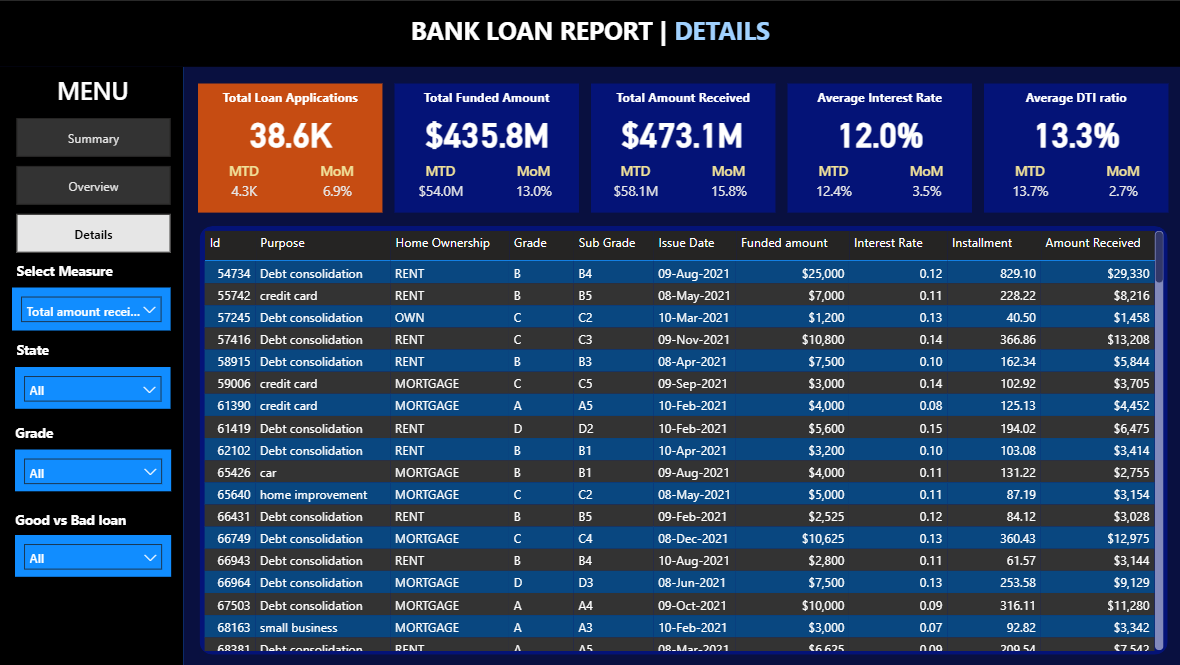

This screenshot's page, from the dashboard's own definition file:
{"tool":"powerbi","page":{"name":"Details","canvas":[1280,720],"ordinal":2},"visuals":[{"type":"shape","box":[0,0,1280.1,71.6],"z":0},{"type":"shape","box":[0,71.6,198.4,649],"z":1000},{"type":"textbox","box":[366,8.1,548.1,53.7],"z":2000},{"type":"textbox","box":[214.3,89.2,200,140],"z":3000},{"type":"card","fields":{"Values":["bankdata loandata.Total Loan Applications"]},"box":[225.5,118,177.5,46.2],"z":4000},{"type":"card","title":"MTD","fields":{"Values":["bankdata loandata.MTD loan applications"]},"box":[225.5,173.8,76.7,46.7],"z":5000},{"type":"card","title":"MoM","fields":{"Values":["bankdata loandata.MoM loan applications"]},"box":[326.4,173.8,76.7,46.7],"z":6000},{"type":"textbox","box":[428,89.3,200,140],"z":7000},{"type":"card","fields":{"Values":["bankdata loandata.Total funded amount"]},"box":[439.7,118,177.5,46.7],"z":8000},{"type":"card","title":"MTD","fields":{"Values":["bankdata loandata.MTD funded amount"]},"box":[439.7,173.8,76.7,46.7],"z":9000},{"type":"card","title":"MoM","fields":{"Values":["bankdata loandata.MoM funded amount"]},"box":[540.5,173.8,76.7,46.7],"z":10000},{"type":"textbox","box":[640.5,89.4,200,140],"z":11000},{"type":"textbox","box":[853.9,89.5,200,140],"z":12000},{"type":"textbox","box":[1067.2,89.6,200,140],"z":13000},{"type":"card","fields":{"Values":["bankdata loandata.Total amount received"]},"box":[651.4,118,177.5,46.7],"z":14000},{"type":"card","fields":{"Values":["bankdata loandata.Avg interest rate"]},"box":[864.7,118,177.5,46.7],"z":15000},{"type":"card","fields":{"Values":["bankdata loandata.Avg dti ratio"]},"box":[1078,118,177.5,46.7],"z":16000},{"type":"card","title":"MTD","fields":{"Values":["bankdata loandata.MTD amount received"]},"box":[651.4,173.8,76.7,46.7],"z":17000},{"type":"card","title":"MoM","fields":{"Values":["bankdata loandata.MoM amount received"]},"box":[752.2,173.8,76.7,46.7],"z":18000},{"type":"card","title":"MTD","fields":{"Values":["bankdata loandata.MTD interest rate"]},"box":[864.7,173.8,76.7,46.7],"z":19000},{"type":"card","title":"MTD","fields":{"Values":["bankdata loandata.MTD dti"]},"box":[1078,173.8,76.7,46.7],"z":20000},{"type":"card","title":"MoM","fields":{"Values":["bankdata loandata.MoM interest rate"]},"box":[965.5,173.8,76.7,46.7],"z":21000},{"type":"card","title":"MoM","fields":{"Values":["bankdata loandata.MoM"]},"box":[1178.9,173.8,76.7,46.7],"z":22000},{"type":"shape","box":[216.7,243.3,1050,465],"z":23000},{"type":"slicer","title":"State","fields":{"Values":["bankdata loandata.Address_State"]},"box":[16.7,396.7,168.3,45],"z":24000},{"type":"textbox","box":[12.7,362.7,123.6,33.6],"z":25000},{"type":"slicer","title":"State","fields":{"Values":["bankdata loandata.Grade"]},"box":[16.4,486.4,169.1,45.5],"z":26000},{"type":"textbox","box":[11.8,452.7,123.6,33.6],"z":27000},{"type":"slicer","title":"State","fields":{"Values":["bankdata loandata.Good vs Bad loan"]},"box":[16.7,579.4,169.1,45.5],"z":28000},{"type":"textbox","box":[11.4,545.7,172.9,34.3],"z":29000},{"type":"slicer","fields":{"Values":["Select Measure.Select Measure"]},"box":[13.3,310,171.7,46.7],"z":30000},{"type":"textbox","box":[13.8,276.2,123.8,33.8],"z":31000},{"type":"tableEx","fields":{"Values":["bankdata loandata.Id","bankdata loandata.Purpose","bankdata loandata.Home_Ownership","bankdata loandata.Grade","bankdata loandata.Sub_Grade","bankdata loandata.Issue_Date","bankdata loandata.Total funded amount","Sum(bankdata loandata.Int_Rate)","Sum(bankdata loandata.Installment)","bankdata loandata.Total amount received"]},"box":[216.7,243.3,1050,465],"z":32000},{"type":"textbox","box":[16.2,73.8,168.8,52.5],"z":33000},{"type":"pageNavigator","box":[17.5,126.2,167.5,147.5],"z":34000}]}

Visuals, with their boxes in screenshot pixels (x1, y1, x2, y2), scaled from the page's 1280x720 canvas onto the 1180x665 screenshot:
shape: left=0, top=0, right=1179, bottom=66
shape: left=0, top=66, right=183, bottom=664
textbox: left=337, top=7, right=843, bottom=57
textbox: left=198, top=82, right=382, bottom=212
card - bankdata loandata.Total Loan Applications: left=208, top=109, right=372, bottom=152
"MTD" card: left=208, top=161, right=279, bottom=204
"MoM" card: left=301, top=161, right=372, bottom=204
textbox: left=395, top=82, right=579, bottom=212
card - bankdata loandata.Total funded amount: left=405, top=109, right=569, bottom=152
"MTD" card: left=405, top=161, right=476, bottom=204
"MoM" card: left=498, top=161, right=569, bottom=204
textbox: left=590, top=83, right=775, bottom=212
textbox: left=787, top=83, right=972, bottom=212
textbox: left=984, top=83, right=1168, bottom=212
card - bankdata loandata.Total amount received: left=601, top=109, right=764, bottom=152
card - bankdata loandata.Avg interest rate: left=797, top=109, right=961, bottom=152
card - bankdata loandata.Avg dti ratio: left=994, top=109, right=1157, bottom=152
"MTD" card: left=601, top=161, right=671, bottom=204
"MoM" card: left=693, top=161, right=764, bottom=204
"MTD" card: left=797, top=161, right=868, bottom=204
"MTD" card: left=994, top=161, right=1064, bottom=204
"MoM" card: left=890, top=161, right=961, bottom=204
"MoM" card: left=1087, top=161, right=1158, bottom=204
shape: left=200, top=225, right=1168, bottom=654
"State" slicer: left=15, top=366, right=171, bottom=408
textbox: left=12, top=335, right=126, bottom=366
"State" slicer: left=15, top=449, right=171, bottom=491
textbox: left=11, top=418, right=125, bottom=449
"State" slicer: left=15, top=535, right=171, bottom=577
textbox: left=11, top=504, right=170, bottom=536
slicer - Select Measure.Select Measure: left=12, top=286, right=171, bottom=329
textbox: left=13, top=255, right=127, bottom=286
tableEx - bankdata loandata.Id x bankdata loandata.Purpose: left=200, top=225, right=1168, bottom=654
textbox: left=15, top=68, right=171, bottom=117
pageNavigator: left=16, top=117, right=171, bottom=253
